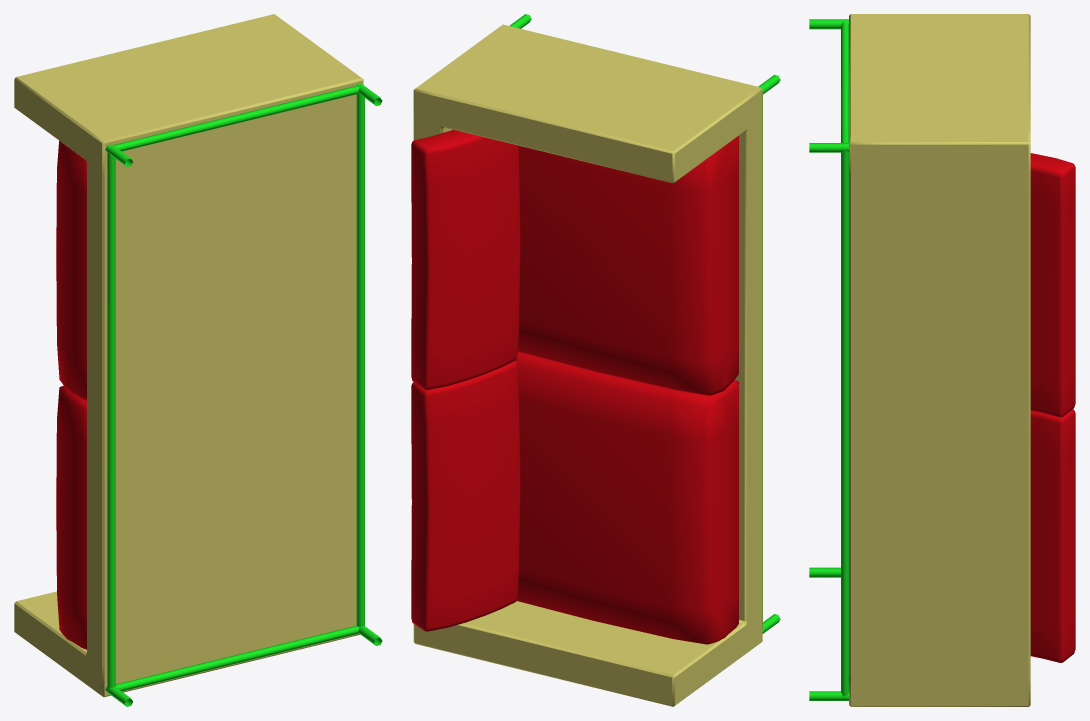
Rendered from sofa_1.FBX.
The picture shows the model from 3 angles, left to right: view 1: azimuth 30°, elevation 25°; view 2: azimuth 150°, elevation 25°; view 3: azimuth 270°, elevation 25°; orthographic projection.
Parts seen in each view (by area): view 1: seat.001; view 2: seat.001; view 3: seat.001.
Part boxes in pixels (box(x1,y1,x2,y2)): seat.001: box(14, 14, 382, 706); seat.001: box(411, 14, 780, 706); seat.001: box(809, 14, 1075, 706).
Size of the model in its own units: 74.94 by 152 by 65.04.
